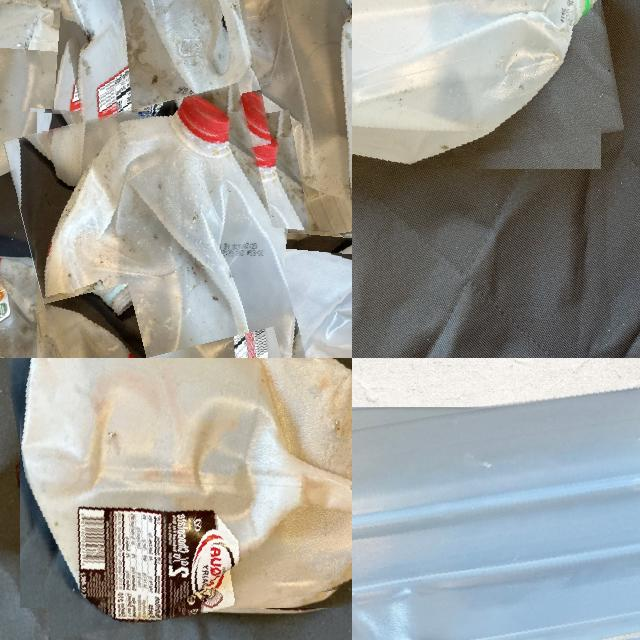milk-jug: (6, 358, 352, 623), (352, 388, 640, 640), (20, 96, 294, 358), (352, 0, 612, 186), (176, 0, 352, 248), (46, 0, 256, 171), (0, 0, 135, 115), (242, 231, 352, 358)
